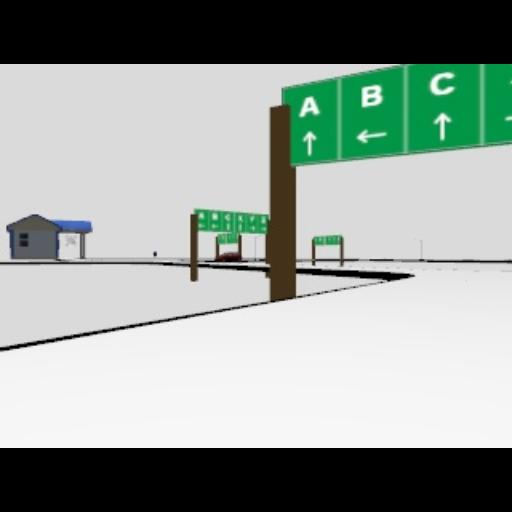A: (298, 95, 318, 117)
B: (360, 83, 382, 107)
C: (429, 70, 455, 94)
Left: (355, 128, 387, 142)
Straight: (432, 111, 452, 141), (303, 129, 317, 155)
